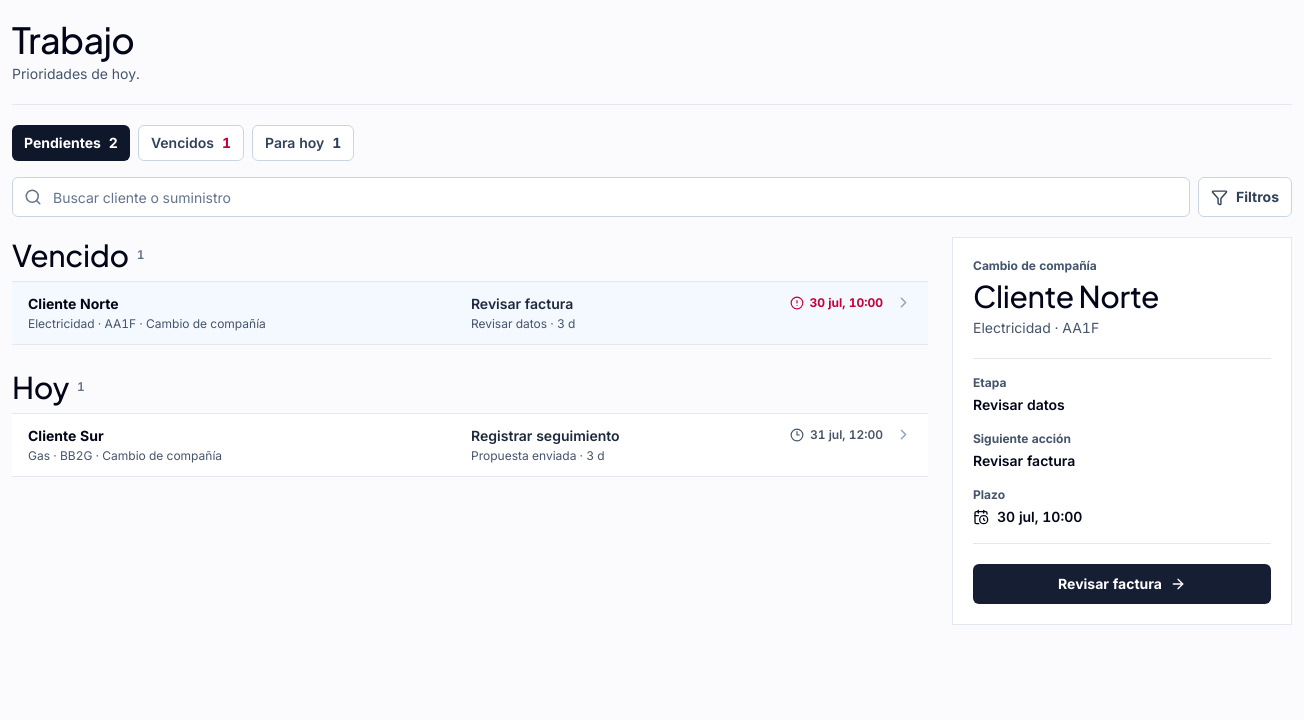
Test: WorkQueueView › uses the summaries as one simple urgency filter
Click the button "Vencidos 1".
click(191, 143)  # box [138,125,244,161]
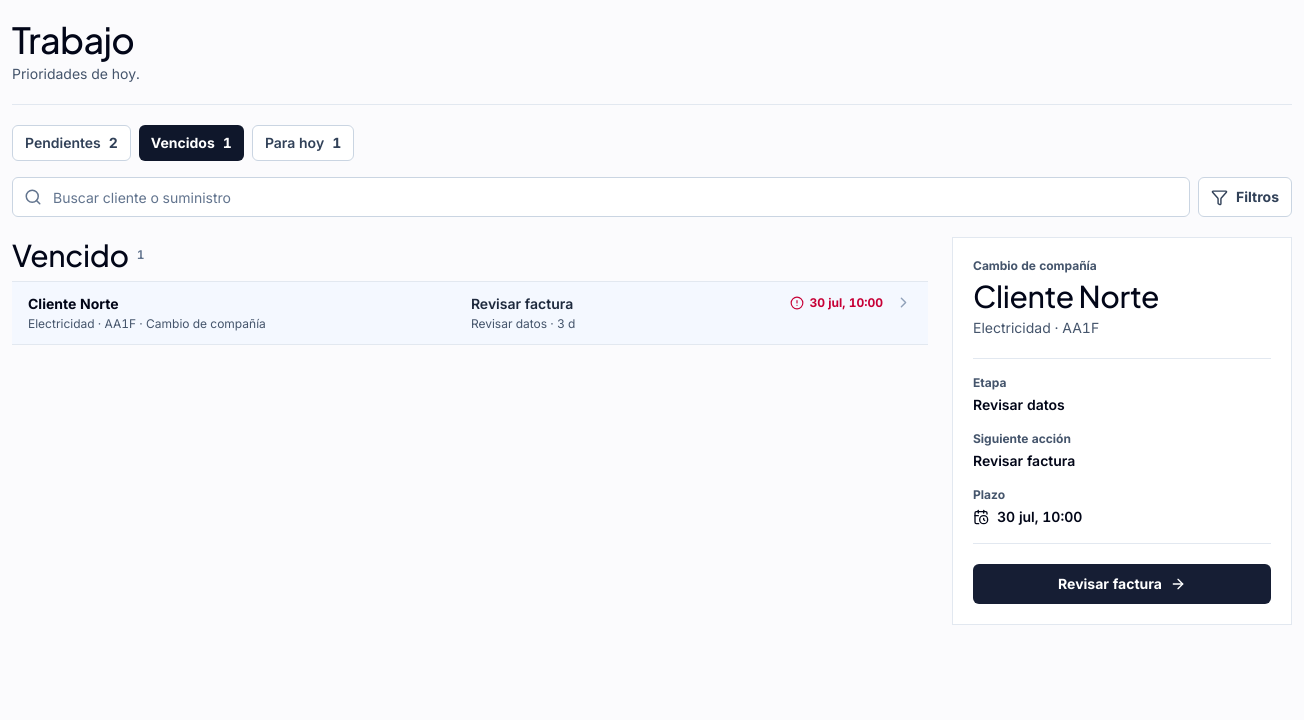
Expected: the text "Cliente Norte" is shown, [28,295,119,312]
Expected: the button "Cliente Sur" is gone
